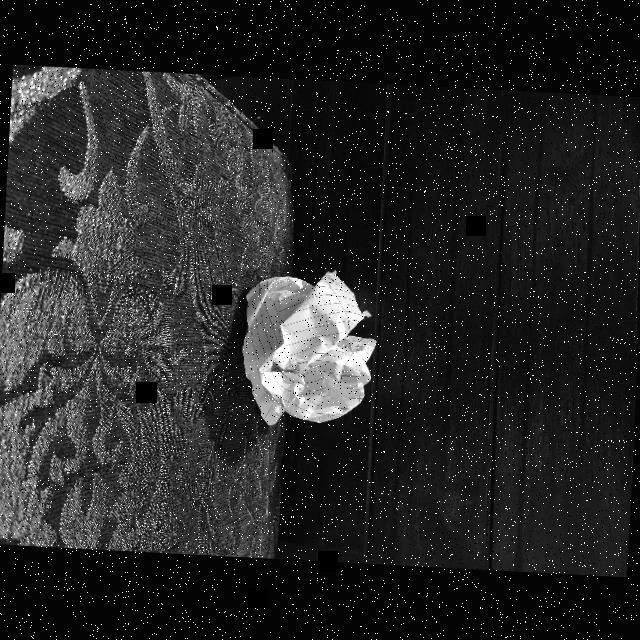scrap_paper: (235, 263, 374, 435)
